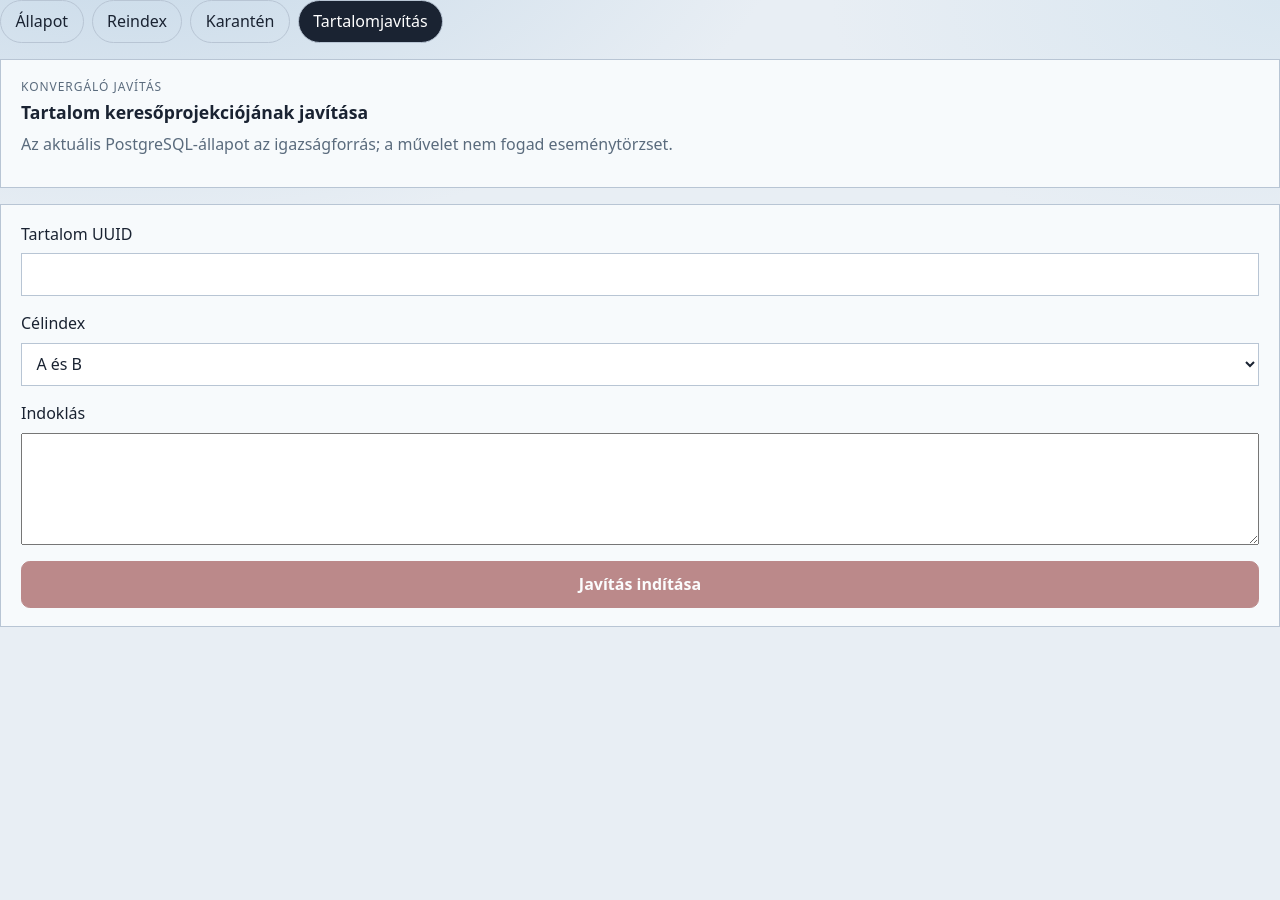
Phase 5 operator pages › accepts a UUID v7 repair target and rejects nil or malformed ids
Type "Keresőprojekció javítása" into the text box labelled "Indoklás" at point(640, 488), box [21,432,1259,544]
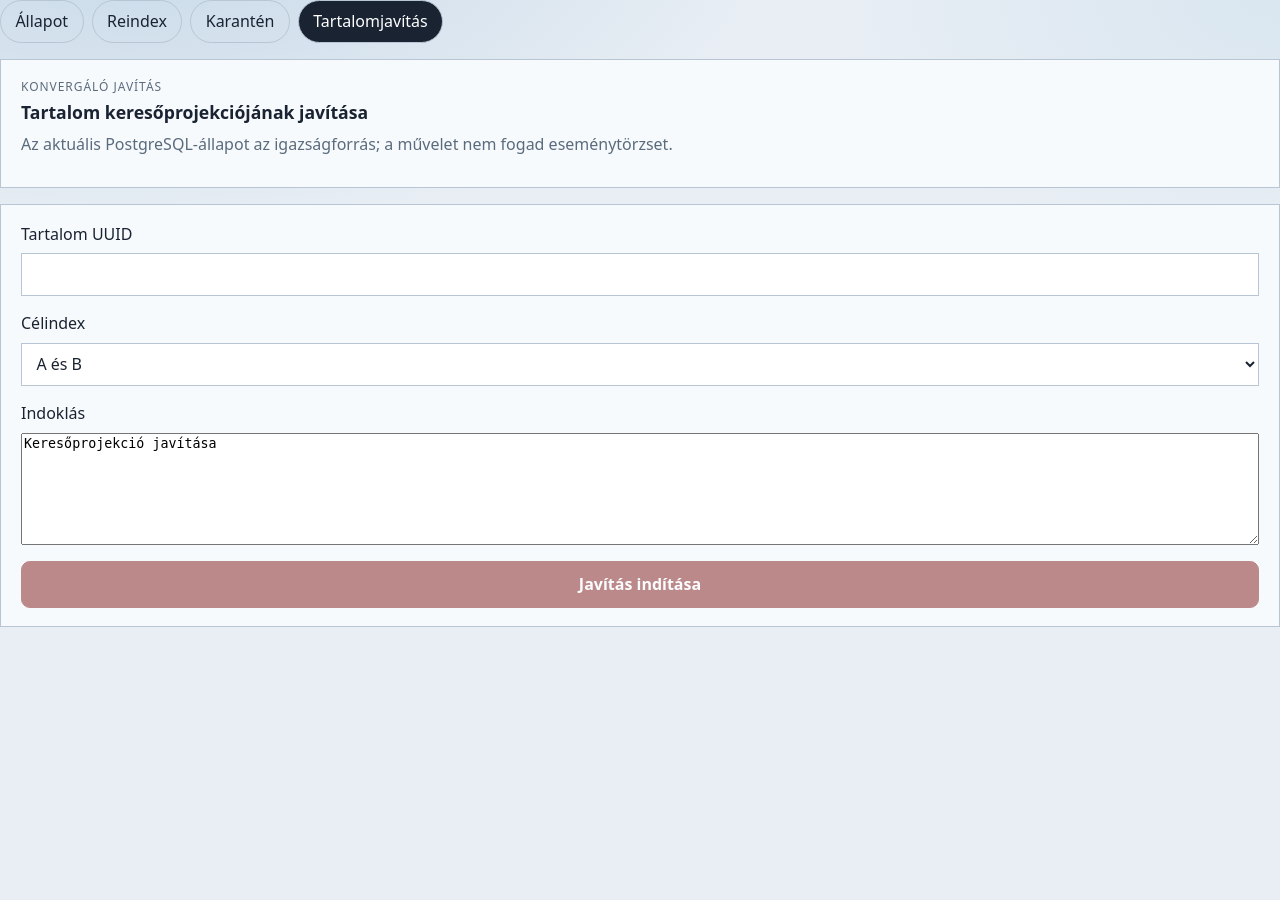
Type "not-a-uuid" into the field labelled "Tartalom UUID" at point(640, 275), box [21,253,1259,296]
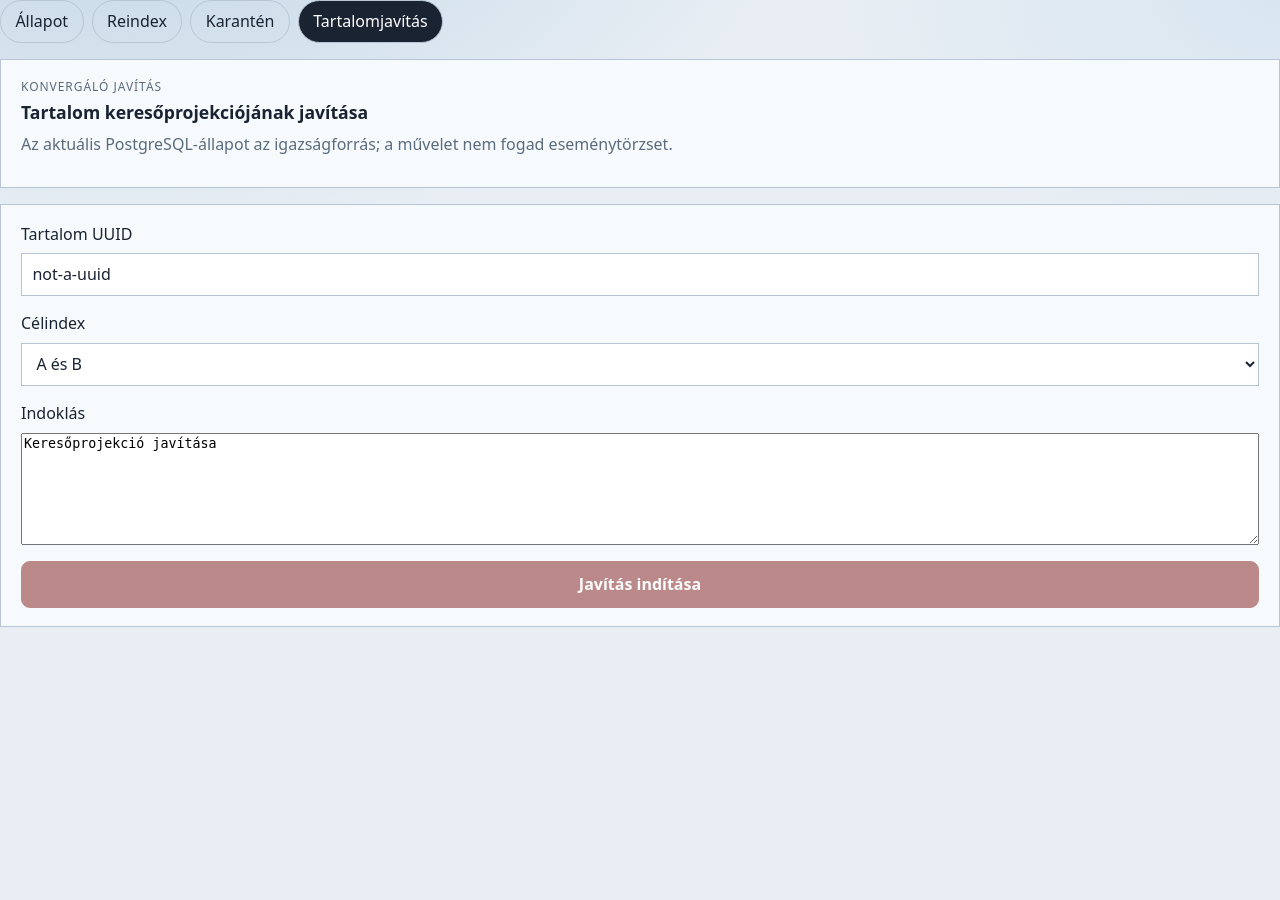
Expected: the button "Javítás indítása" is disabled, [21,560,1259,608]
Replace the text in the field labelled "Tartalom UUID" with "00000000-0000-0000-0000-000000000000" at point(640, 275), box [21,253,1259,296]
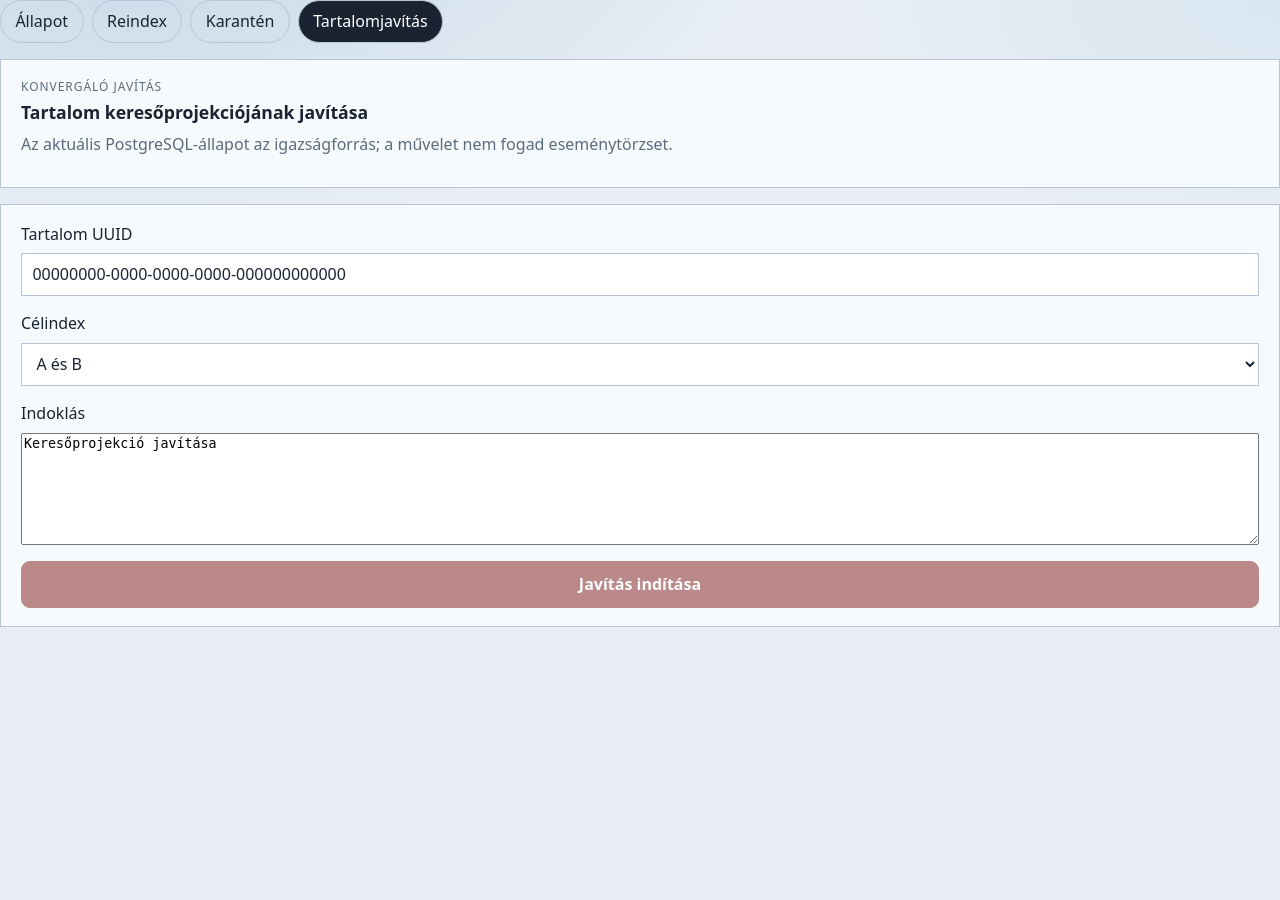
Expected: the button "Javítás indítása" is disabled, [21,560,1259,608]
Replace the text in the field labelled "Tartalom UUID" with "018f1e2c-8b7a-7d3e-9c4b-1a2b3c4d5e6f" at point(640, 275), box [21,253,1259,296]
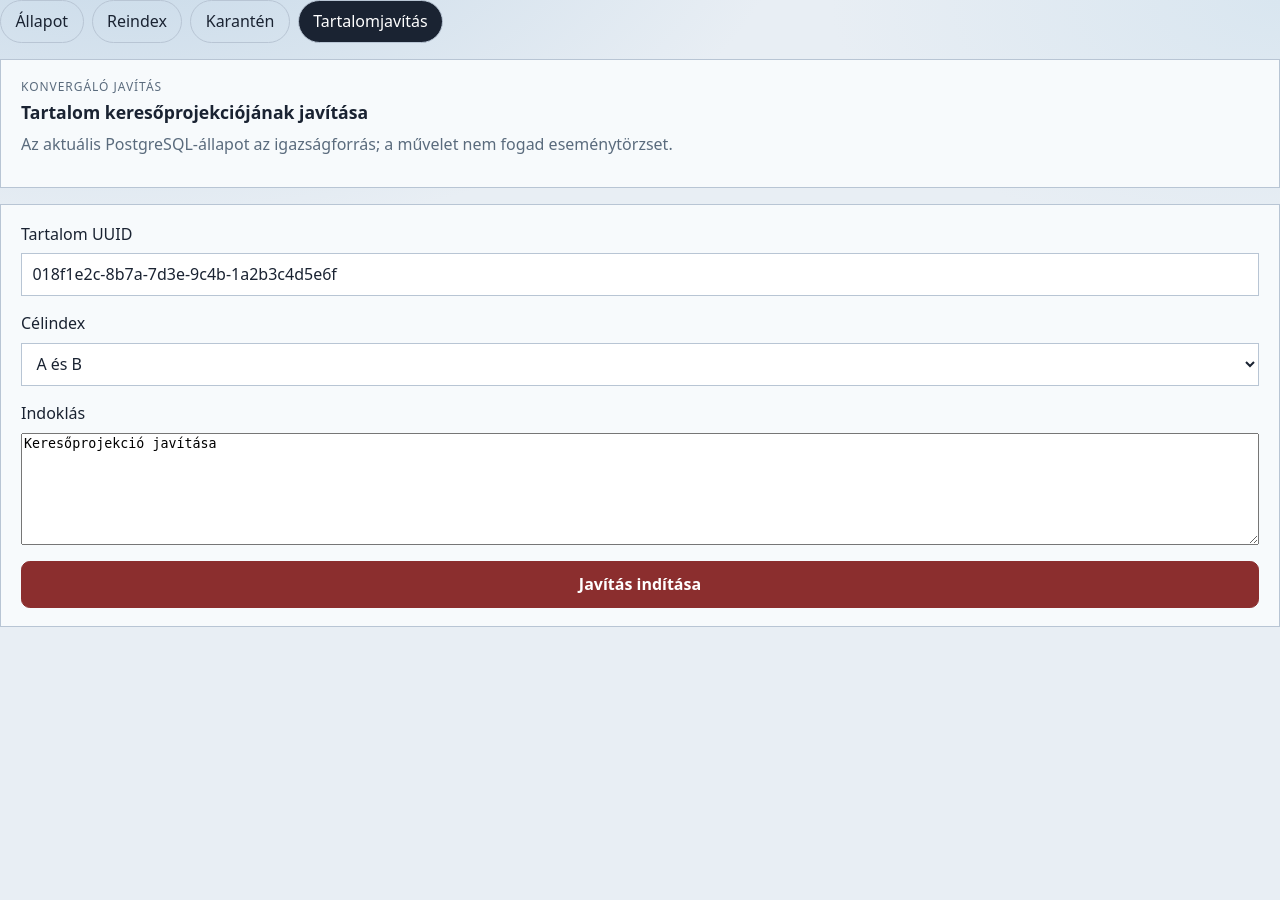
Now the button "Javítás indítása" is enabled, box [21,560,1259,608]
